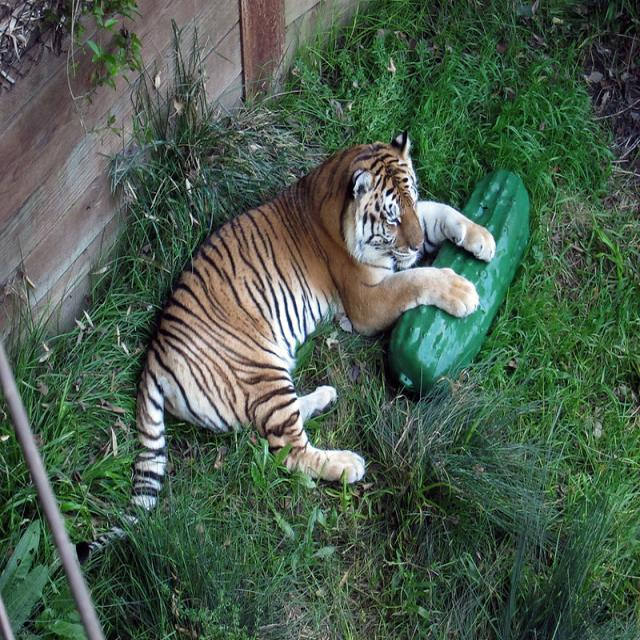Tiger: (74, 127, 496, 561)
